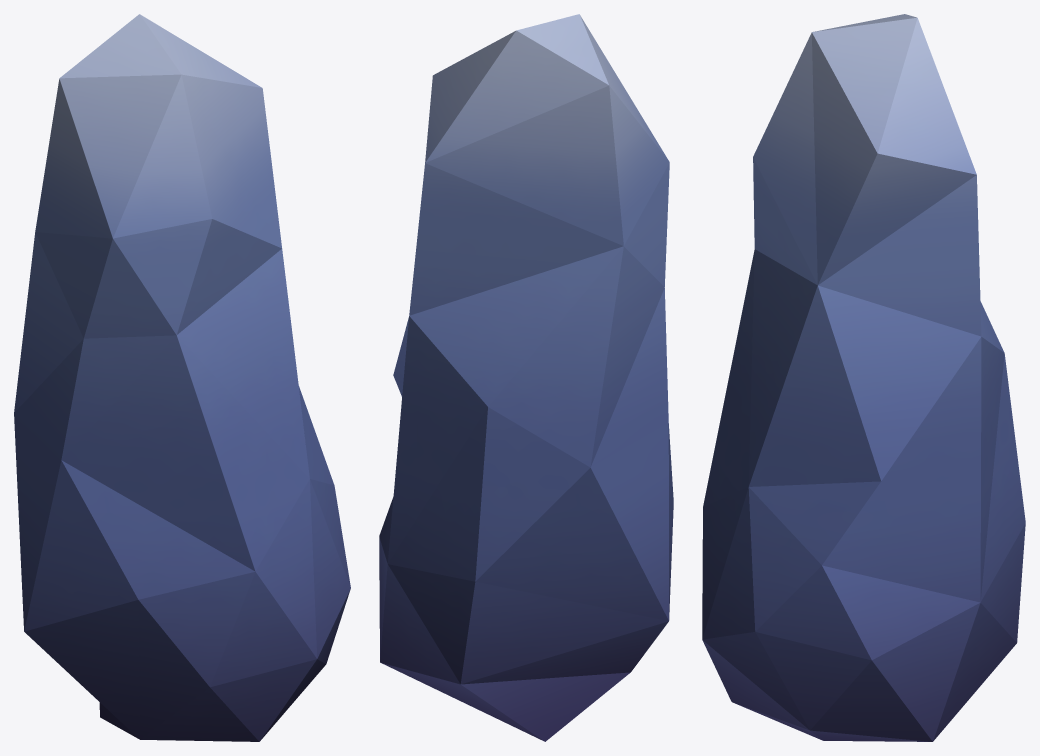
3 renders of one model, left to right at view 1: azimuth 30°, elevation 25°; view 2: azimuth 150°, elevation 25°; view 3: azimuth 270°, elevation 25°, orthographic.
Parts seen in each view (by area): view 1: Base_02; view 2: Base_02; view 3: Base_02.
Boxes of the visible parts, box(x1,y1,x2,y2) form: Base_02: box(14, 14, 350, 741); Base_02: box(379, 14, 673, 741); Base_02: box(702, 14, 1025, 741).
Bounding box in the file's own units: 1.44 × 3.28 × 1.37.
